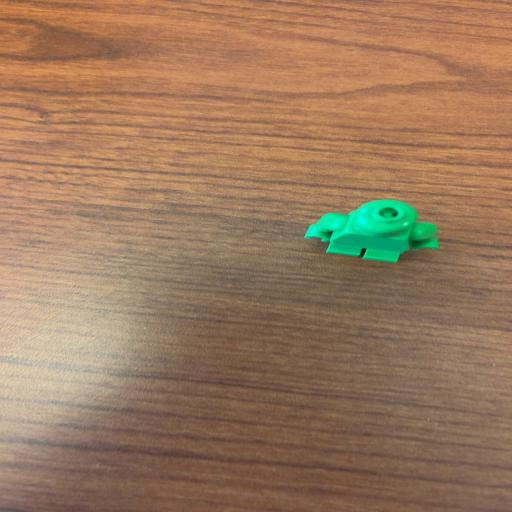UnoQ-minifig-detector: (304, 200, 438, 262)
